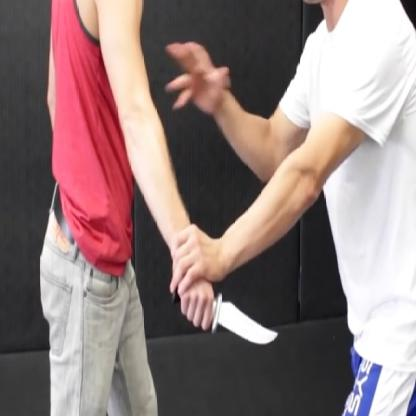knife: (167, 284, 284, 363)
